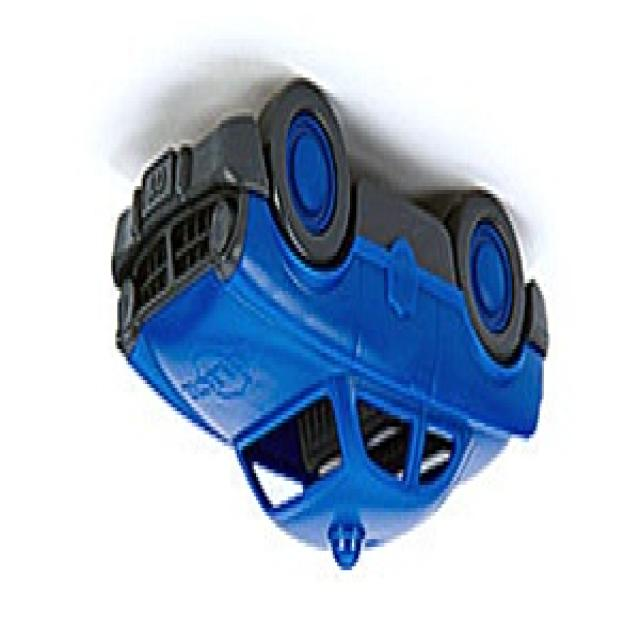Car: (111, 82, 550, 574)
